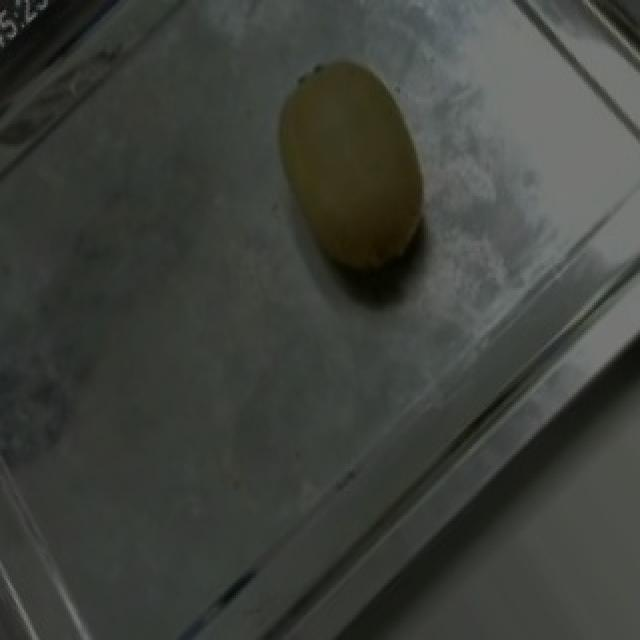Fruit: (234, 32, 468, 318)
